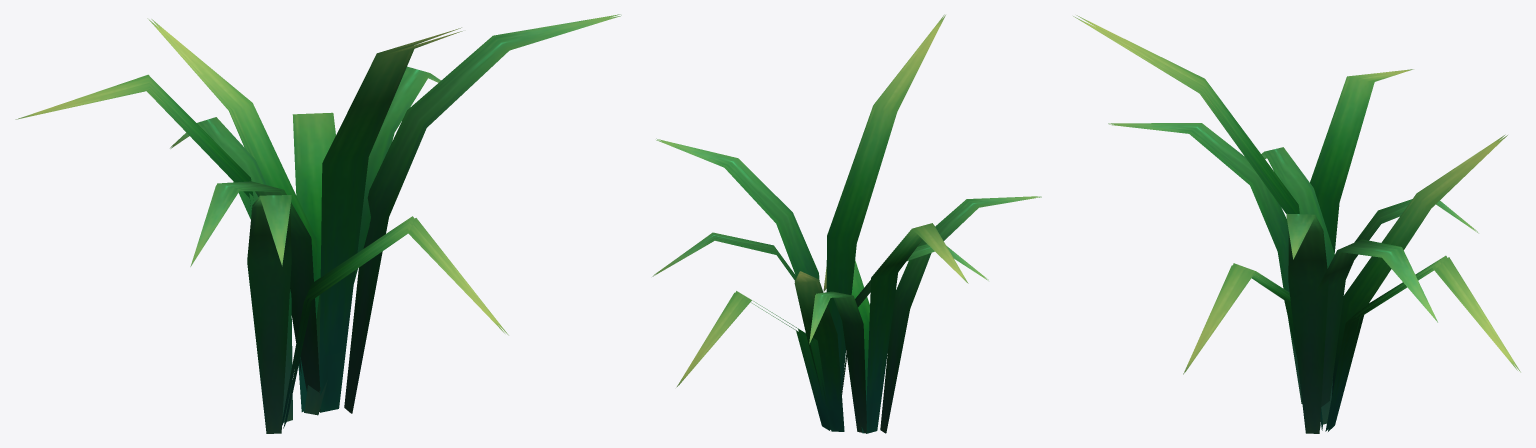
Rendered from h5_cao_a.FBX.
3 renders of one model, left to right at view 1: azimuth 30°, elevation 25°; view 2: azimuth 150°, elevation 25°; view 3: azimuth 270°, elevation 25°, orthographic. The views are drawn at different scales.
Visible parts, largest first — view 1: h5_cao_a; view 2: h5_cao_a; view 3: h5_cao_a.
Boxes of the visible parts, left/top/right/bottom form: h5_cao_a: left=15, top=14, right=621, bottom=433; h5_cao_a: left=652, top=14, right=1041, bottom=433; h5_cao_a: left=1073, top=15, right=1520, bottom=433.
Bounding box in the file's own units: 1.22 × 1.09 × 1.09.
Materials: 1 (1 with a texture image).
